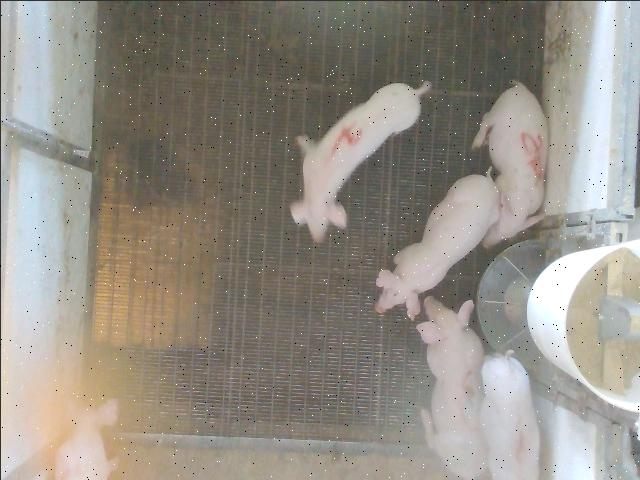pig-1: (479, 351, 539, 479)
pig-3: (416, 296, 488, 478)
pig-4: (290, 81, 429, 241)
pig-5: (471, 80, 546, 247)
